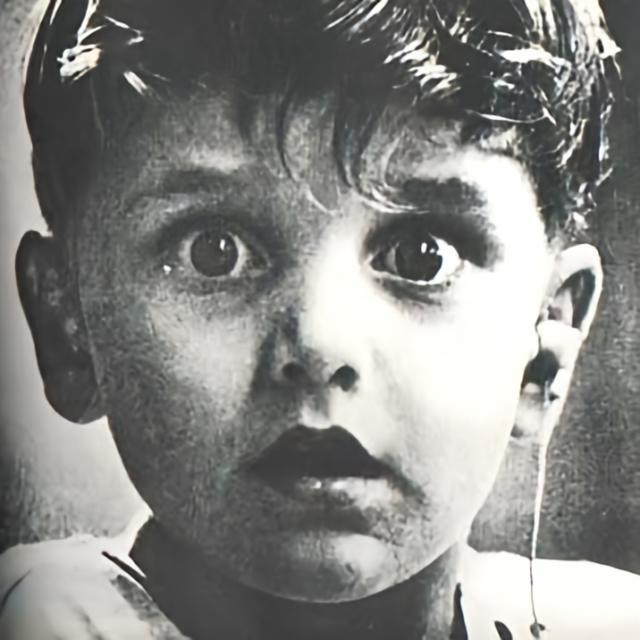fear: (76, 24, 550, 603)
